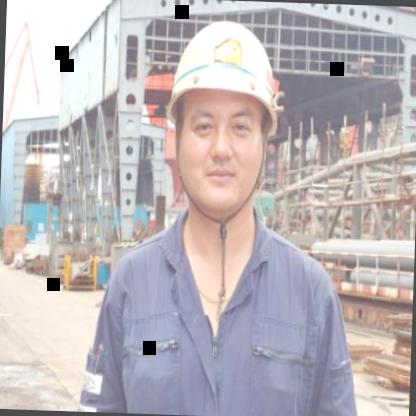helmet: (152, 4, 294, 230)
